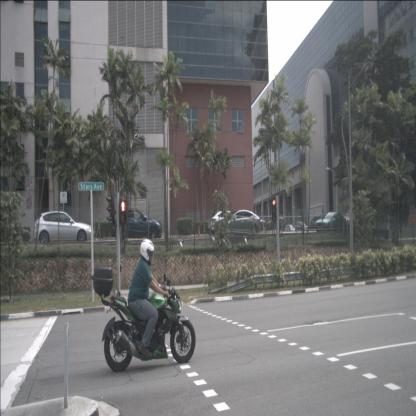movable_object-trafficcone: (197, 226, 201, 237)
vehicle-car: (34, 211, 95, 243), (110, 208, 162, 242), (214, 210, 261, 236), (208, 210, 248, 235), (314, 212, 348, 232), (306, 215, 329, 235), (266, 215, 286, 231), (295, 221, 308, 232), (284, 224, 296, 233)
vehicle-motorcycle: (89, 238, 196, 371)
